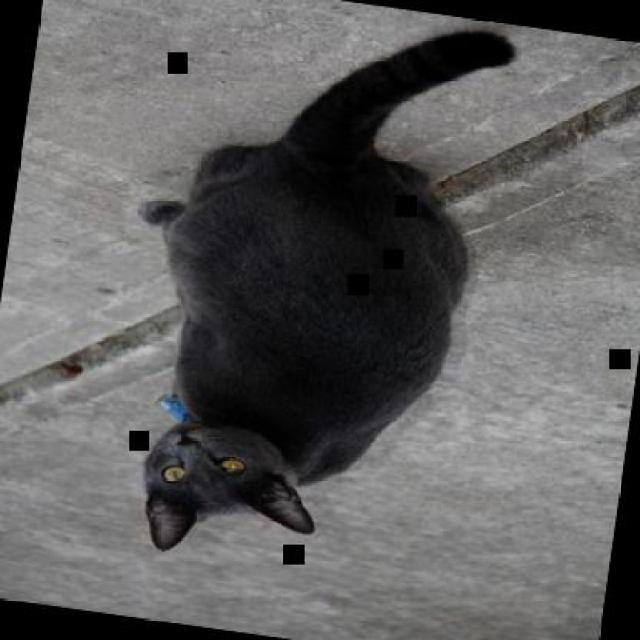cat: (93, 0, 518, 592)
